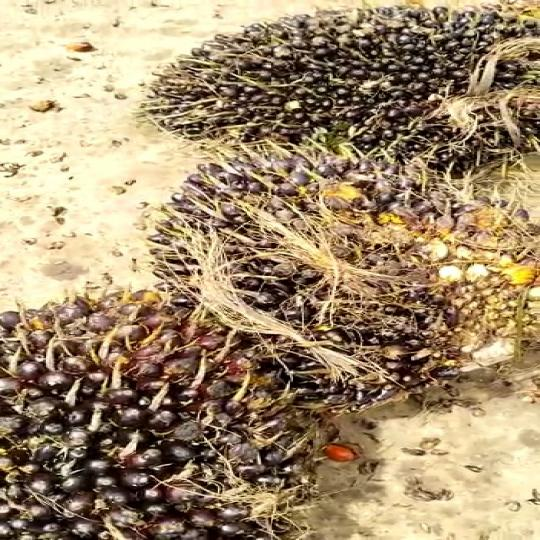mentah: (122, 136, 538, 412), (0, 257, 310, 540), (139, 0, 536, 176)
